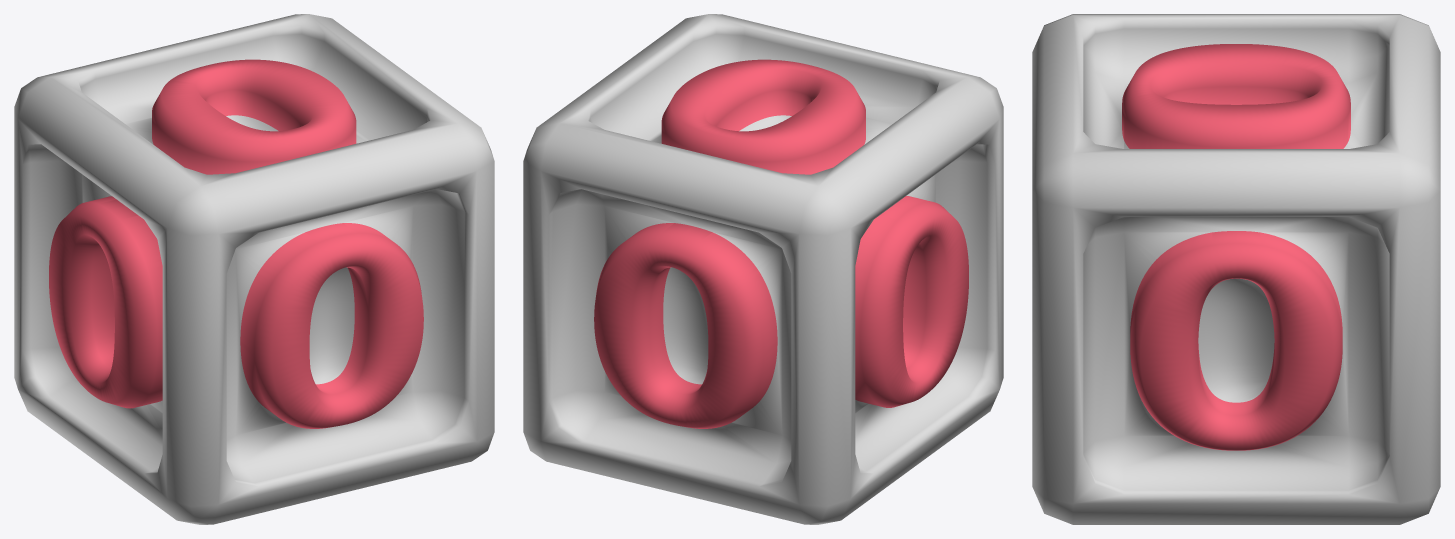
3 views of the same model, side by side, from view 1: azimuth 30°, elevation 25°; view 2: azimuth 150°, elevation 25°; view 3: azimuth 270°, elevation 25° (orthographic). The views are drawn at different scales.
Visible parts, largest first — view 1: obj_0; view 2: obj_0; view 3: obj_0.
Boxes of the visible parts, x1,y1,x2,y2 form: obj_0: (14,14,494,524); obj_0: (523,14,1003,524); obj_0: (1032,14,1440,524).
Size of the model in its own units: 100 by 100 by 100.
